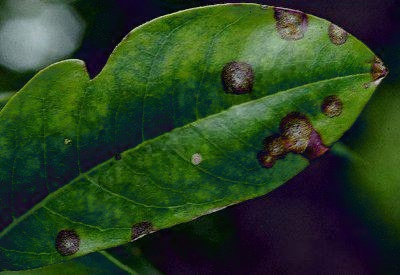Anthracnose: (213, 51, 343, 185), (272, 4, 381, 102), (48, 218, 178, 256)
